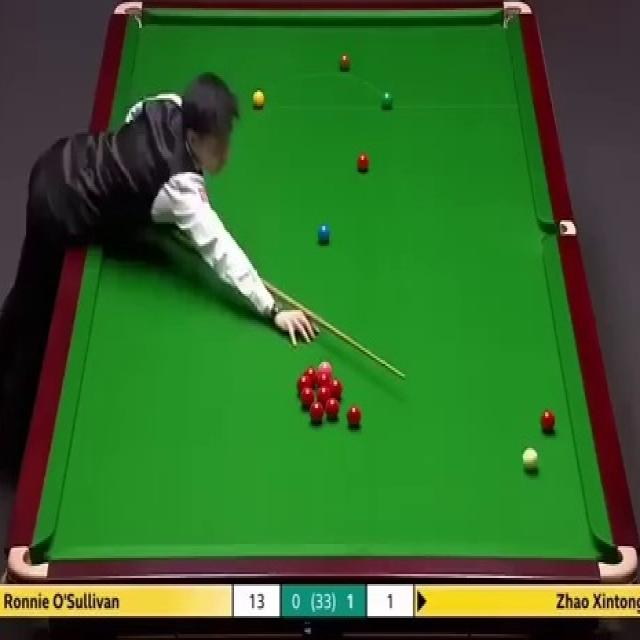pocket: (596, 537, 637, 585), (7, 542, 51, 582), (502, 2, 536, 28), (542, 220, 575, 238), (118, 1, 142, 25)
